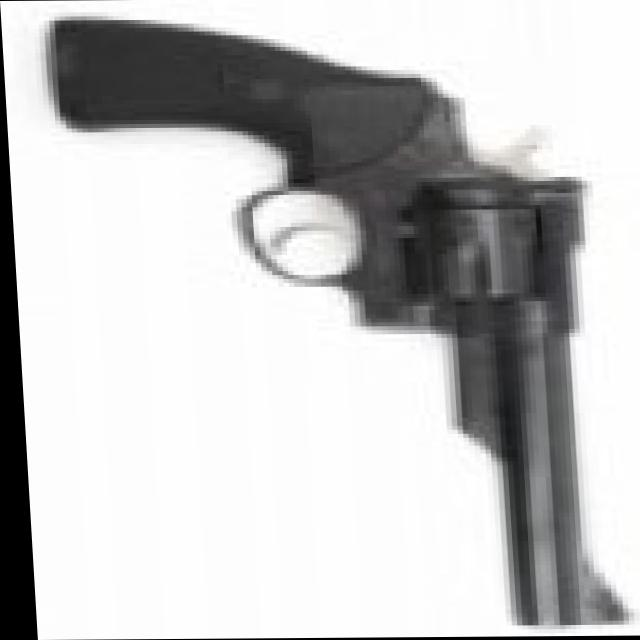handgun: (48, 0, 637, 628)
